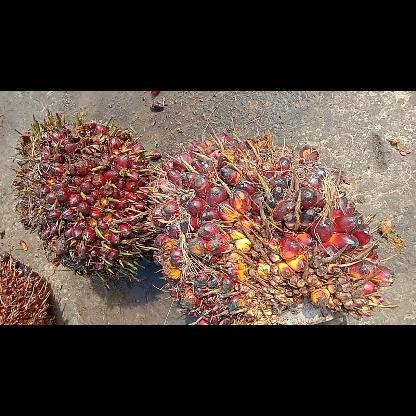Kurang masak: (12, 112, 160, 280)
TBS masak: (146, 128, 396, 324)
